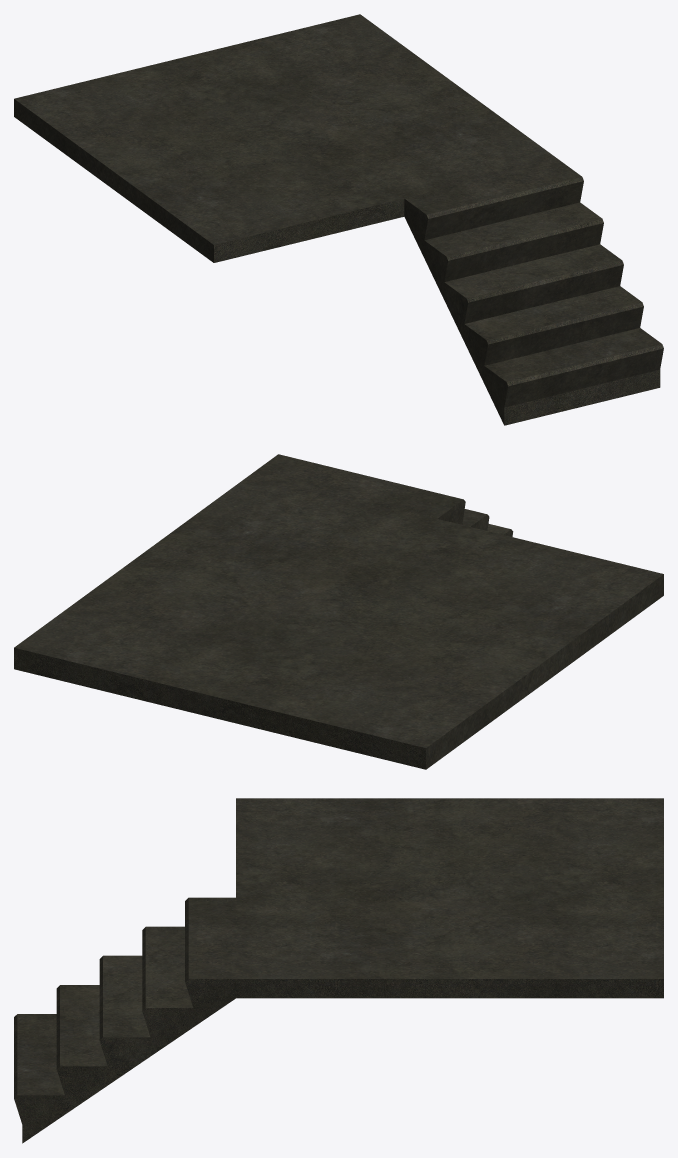
The model's file is stairs_2.glb.
3 views of the same model, one above another, from view 1: azimuth 30°, elevation 25°; view 2: azimuth 150°, elevation 25°; view 3: azimuth 270°, elevation 25° (orthographic). The views are drawn at different scales.
Parts seen in each view (by area): view 1: stairs_2; view 2: stairs_2; view 3: stairs_2.
Boxes of the visible parts, <box> form: stairs_2: <box>14,14,663,425</box>; stairs_2: <box>14,454,663,769</box>; stairs_2: <box>14,798,663,1143</box>.
Bounding box in the file's own units: 4 × 1.7 × 6.08.
Materials: 1 (1 with a texture image).
